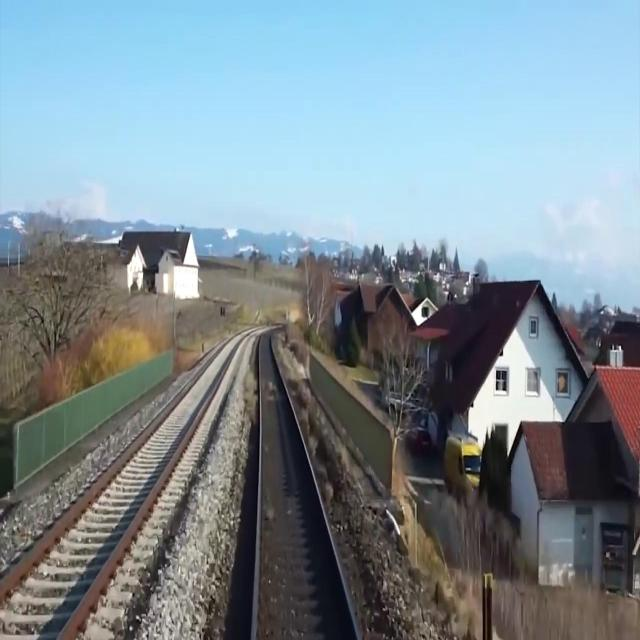rail-track: (0, 333, 244, 639), (255, 333, 356, 639)
